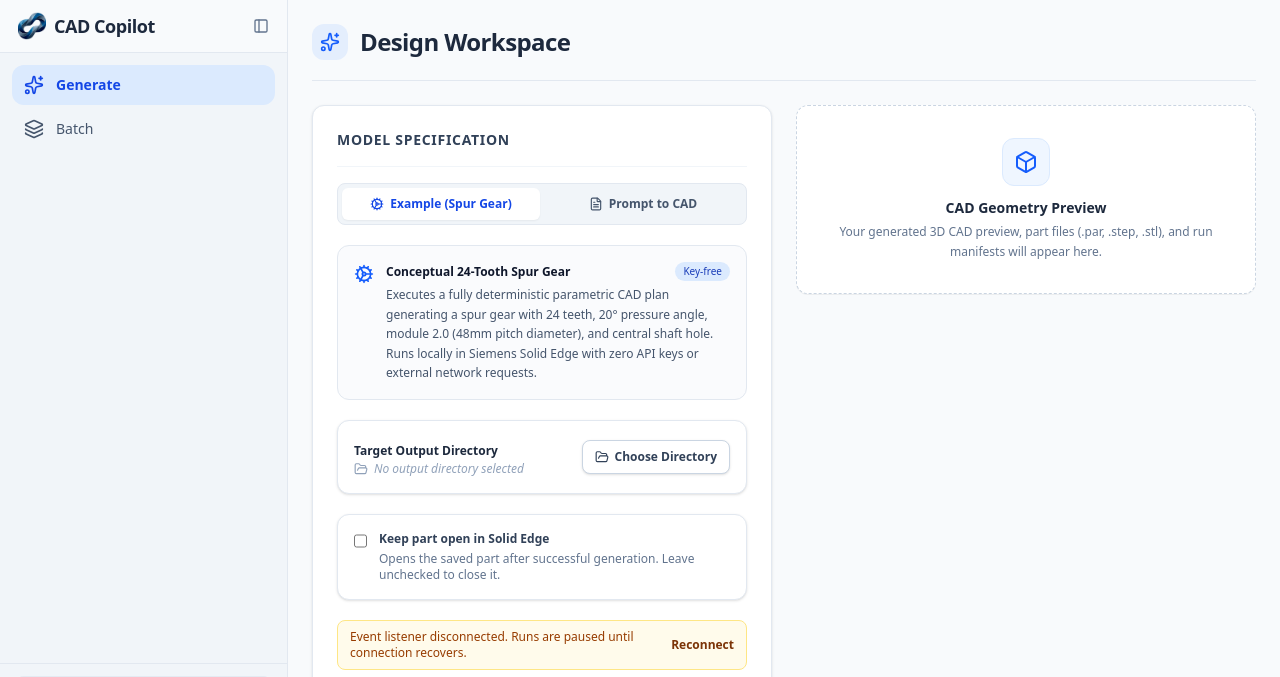
Application Shell Navigation › disables Batch run button and displays busy warning in Batch view when Generation is busy in App
The image size is (1280, 677).
// Switch to Batch
Click the button "Batch". click: (75, 128)
box: [12,109,275,149]
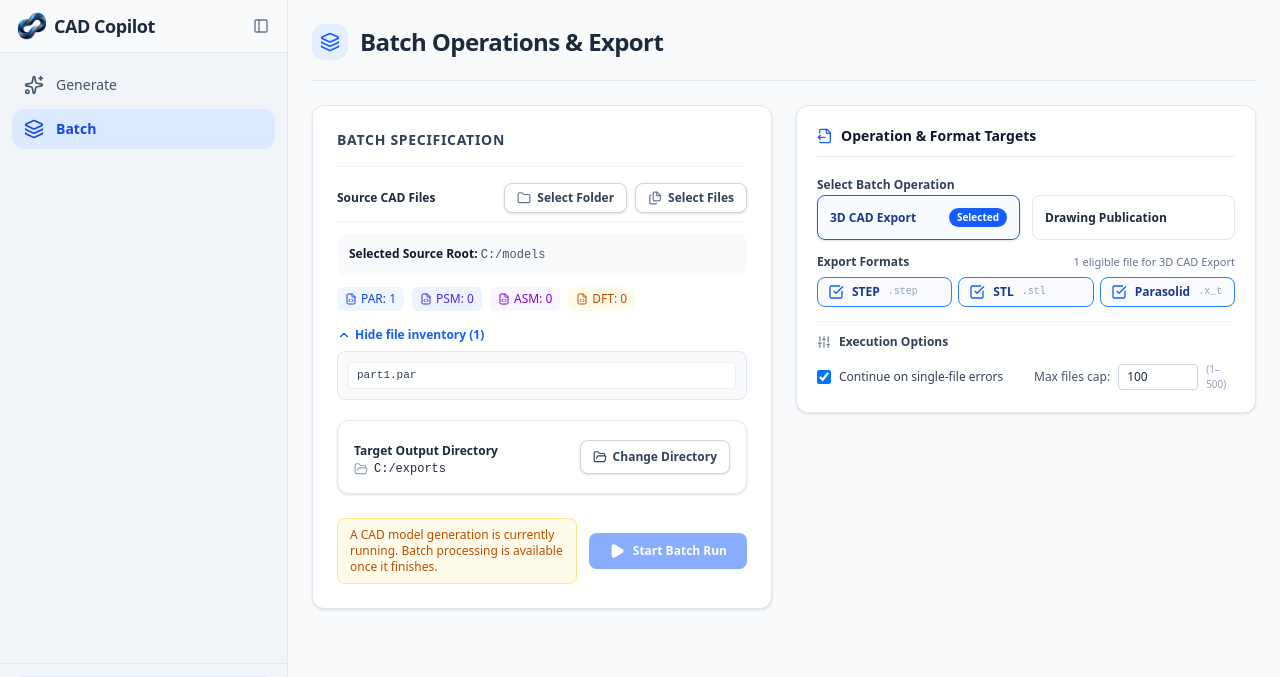
Now the button "Start Batch Run" is disabled, box [589,532,747,568]
Now the text "A CAD model generation is currently running" is shown, box [350,526,563,574]
